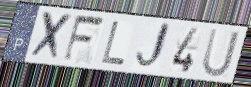4: (169, 26, 198, 74)
F: (61, 13, 107, 64)
J: (133, 20, 173, 73)
L: (99, 19, 127, 67)
U: (200, 27, 242, 79)
X: (27, 9, 75, 63)
